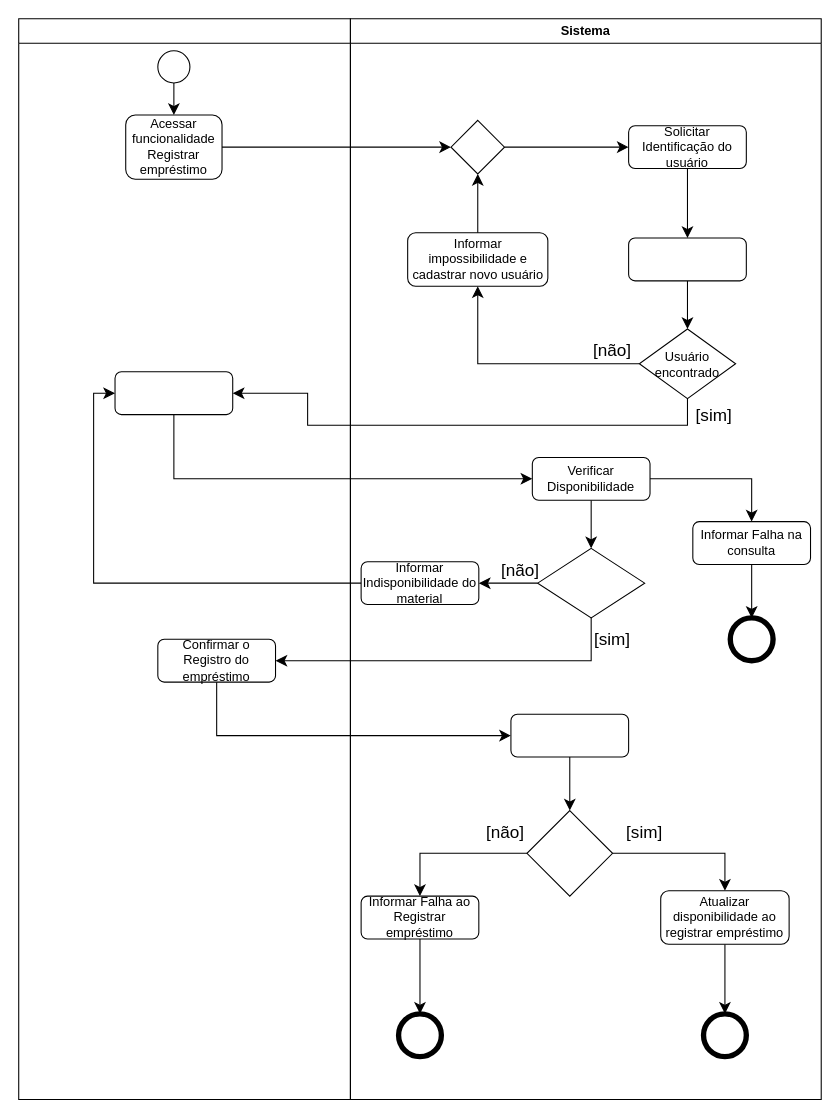
This 840x1118 diagram has some shape labels left out. The box of each missing label's shape, as (x1, y1, x2, y2) in pixels:
Disponibilidade: (537, 547, 645, 618)
Registrar o empréstimo: (510, 713, 629, 757)
Registro concluído: (526, 809, 613, 896)
Responsável Pela Pista: (18, 18, 350, 1099)
Selecionar Material: (114, 371, 233, 415)
Verificar cadastro do usuário: (628, 237, 746, 281)
